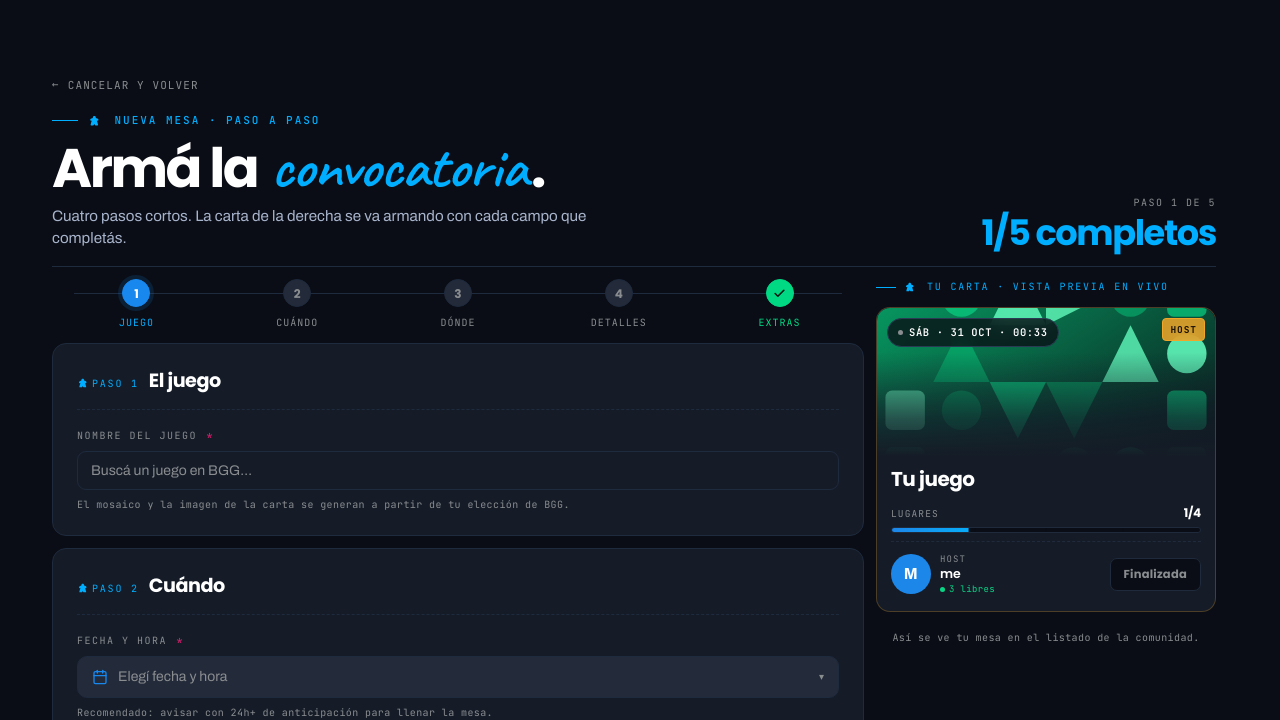
Test case: <CreateTable> (standalone — wizard) › shows "Sin resultados" when BGG returns empty
The width and height of the screenshot is (1280, 720).
In the field with placeholder "Buscá un juego en BGG…": (458, 470) [77,451,839,490], type "xyz"
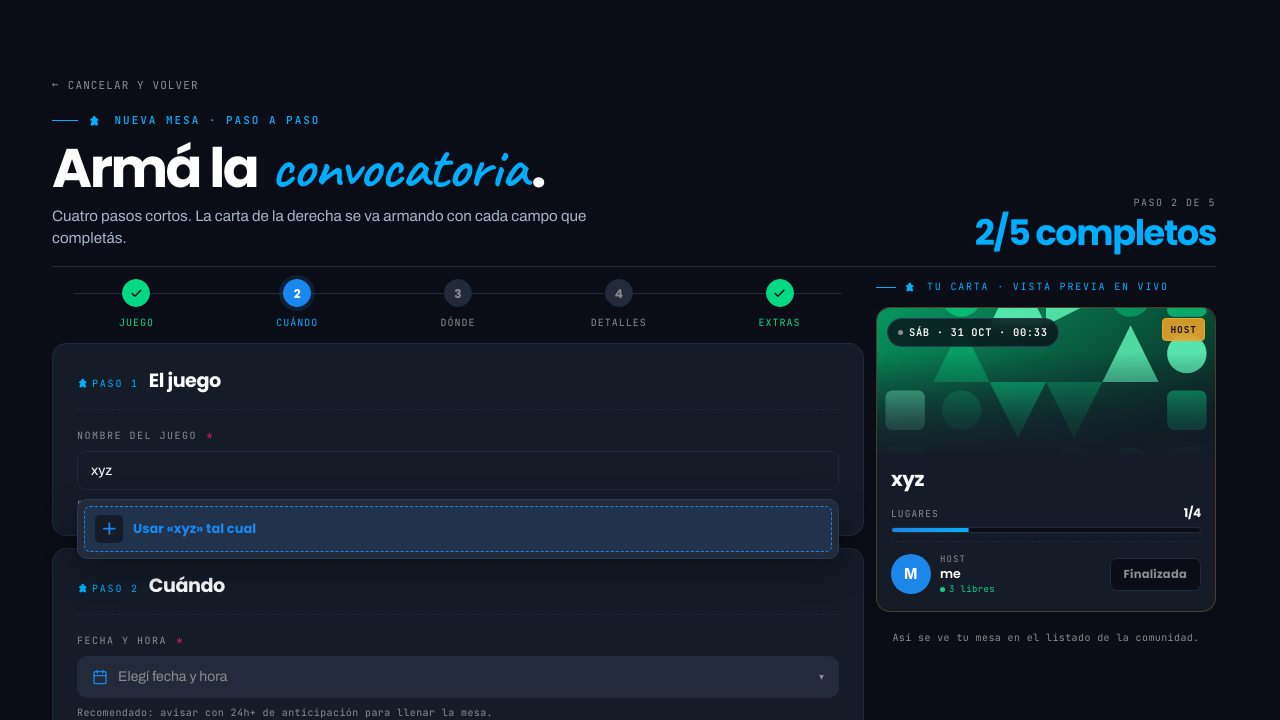
Check: the text "Sin resultados en BGG" is shown, box [77,498,211,511]
